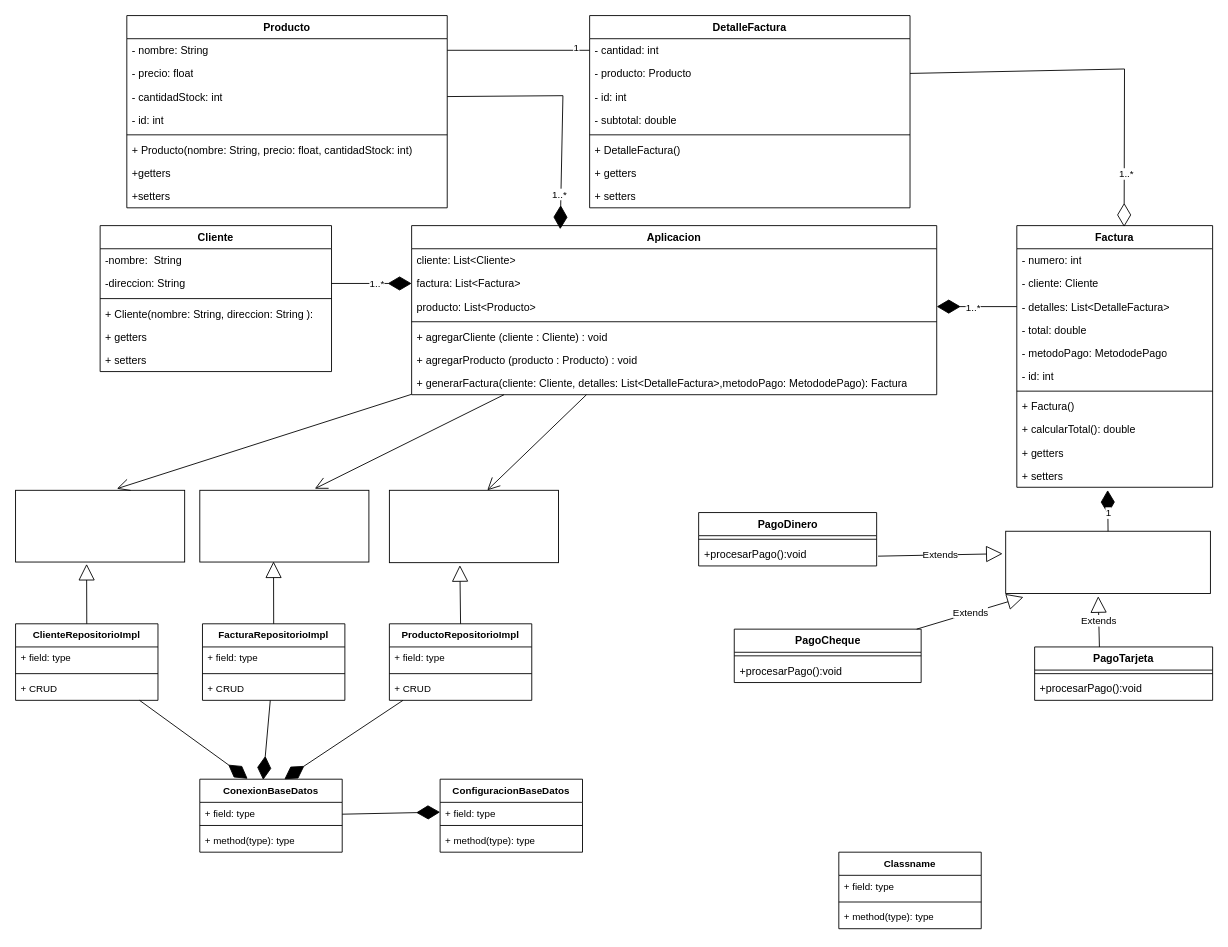
Some shapes in this 1228 by 947 pixel diagram are drawn without their labels. Here are the shapes that lost their labels. From the top down, the centre of each, then its label:
At pixel 100 525: "<<Interface>> ClienteRepositorio + CRUD".
At pixel 284 525: "<<Interface>> FacturaRepositorio + CRUD".
At pixel 473 526: "<<Interface>> ProductoRepositorio + CRUD".
At pixel 1107 562: "<<Interface>> MetododePago + procesarPago():void".
